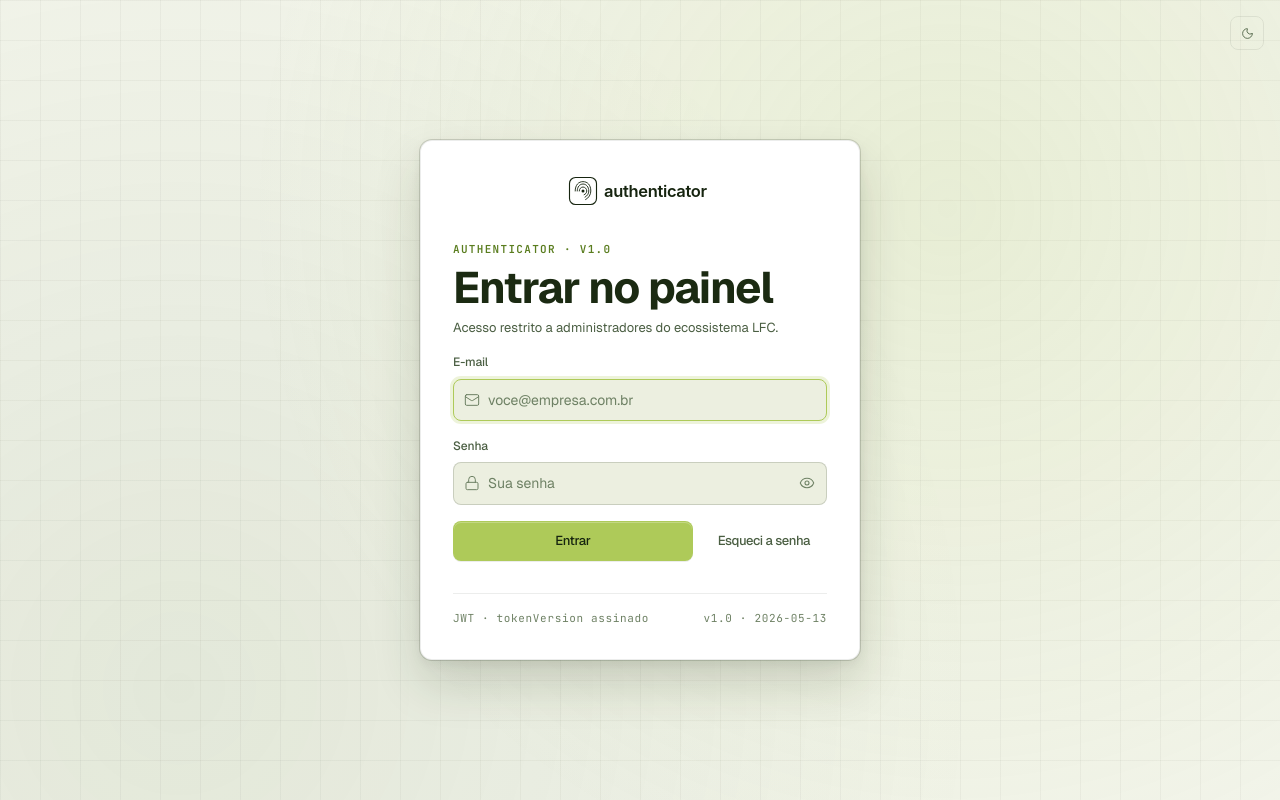
LoginPage — validação client-side › exibe erro inline quando email está vazio ao submeter
Click the button "Entrar": (573, 541) [453,521,693,561]
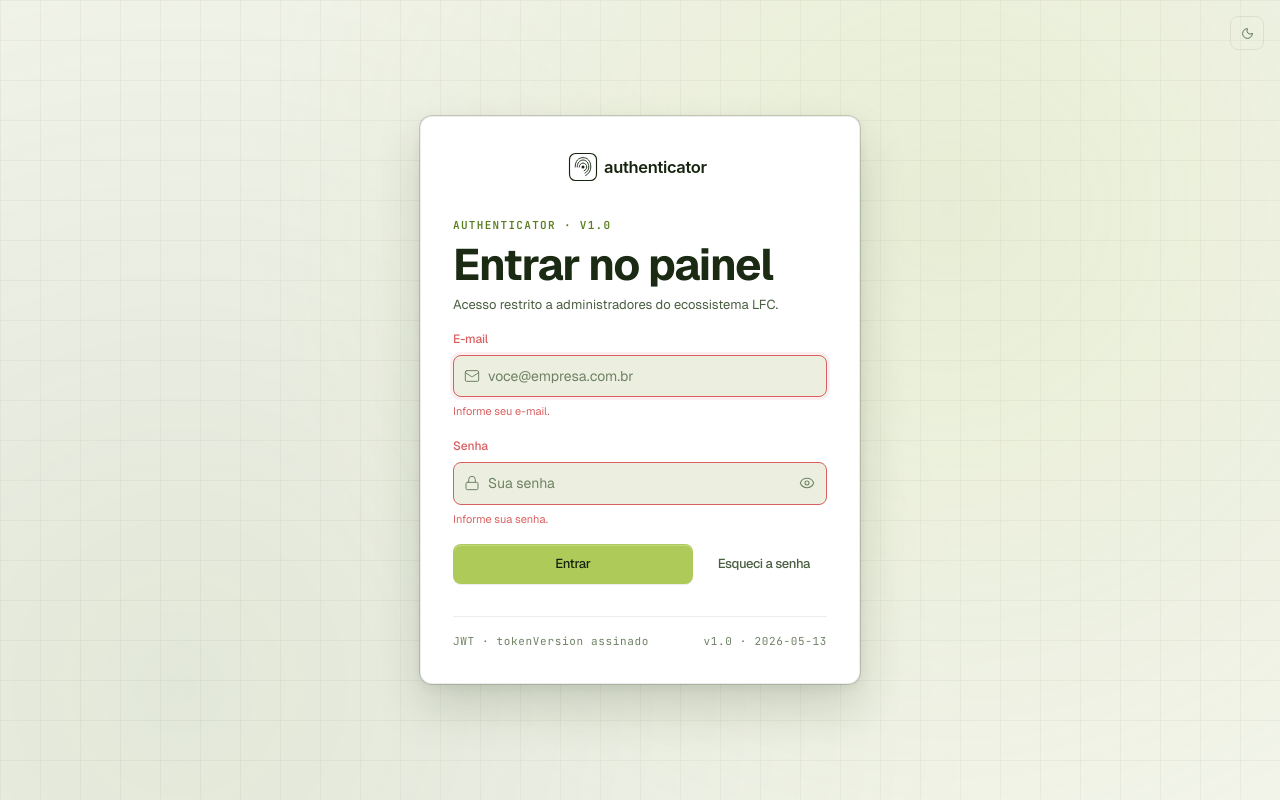
Expected: the text "Informe seu e-mail." is shown, [453,404,549,418]
